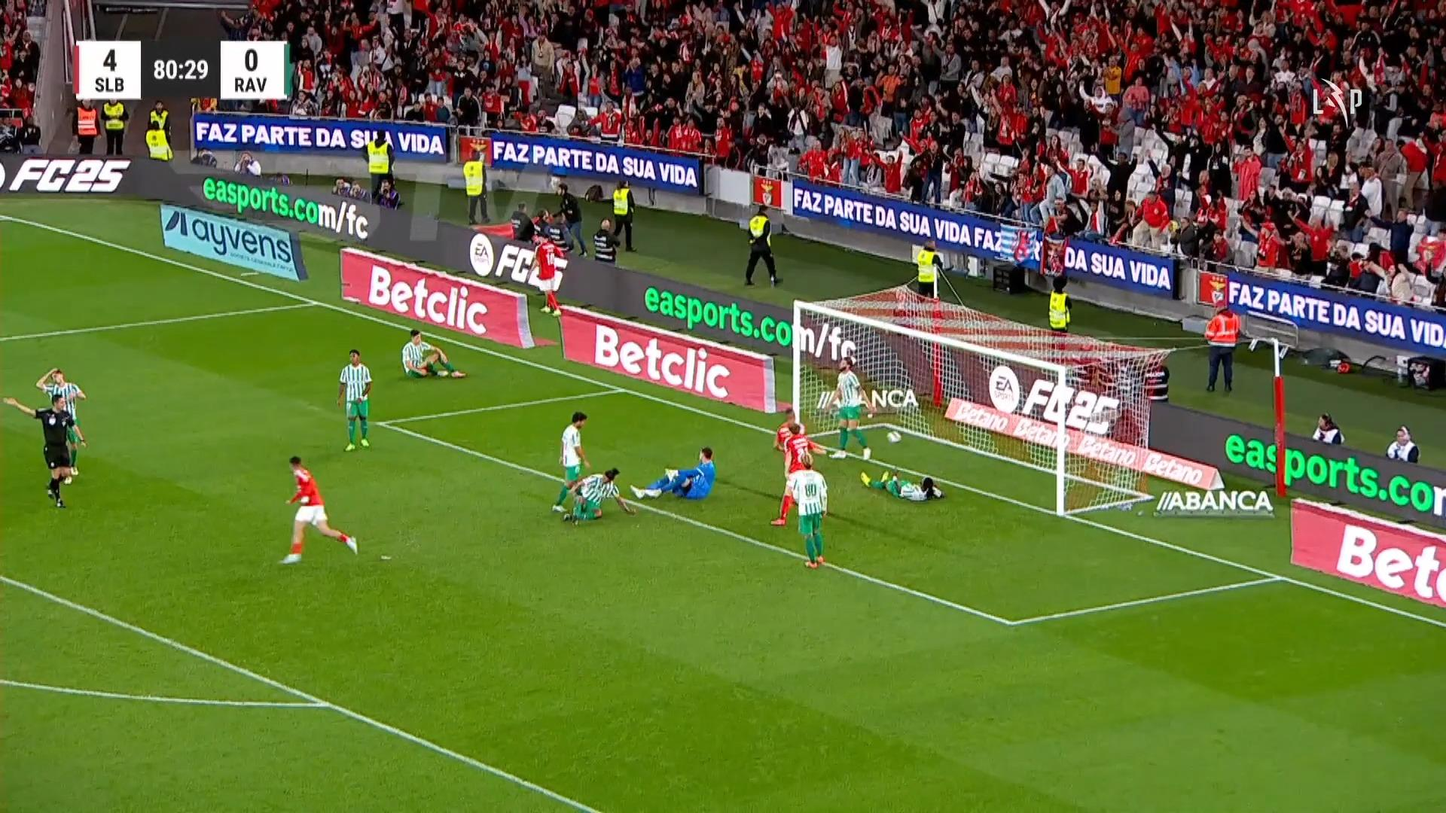ball: (886, 431, 901, 443)
goalkeeper: (629, 446, 716, 501)
player: (279, 454, 358, 565), (770, 420, 828, 525), (35, 366, 87, 476), (825, 355, 876, 461), (785, 451, 829, 568), (563, 466, 636, 523), (551, 410, 591, 513), (335, 349, 372, 452), (525, 230, 569, 315), (401, 328, 466, 379), (859, 467, 944, 501)
referee: (2, 391, 86, 508)
